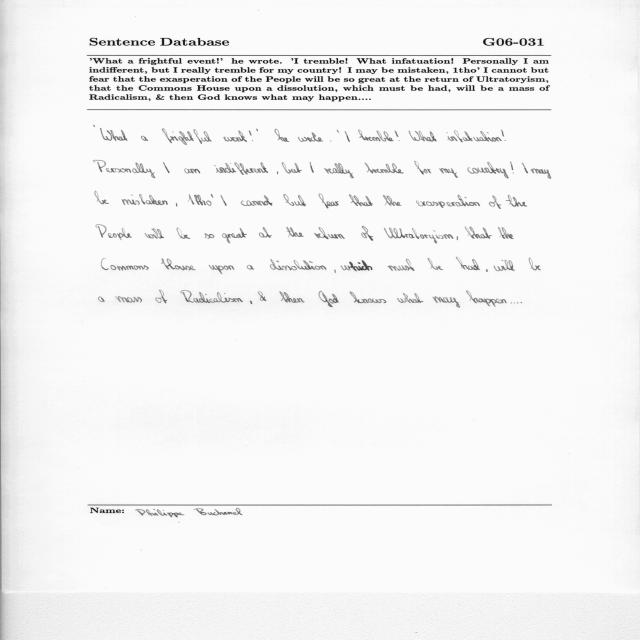word: (94, 161, 156, 179), (384, 228, 453, 244), (162, 128, 211, 145), (416, 195, 480, 208), (180, 290, 243, 303), (214, 162, 268, 175), (466, 290, 507, 307), (467, 162, 509, 178), (447, 130, 502, 142), (270, 259, 326, 270), (102, 258, 149, 271), (96, 225, 132, 240), (122, 194, 168, 205), (161, 258, 196, 271), (324, 163, 354, 178), (350, 292, 387, 304), (358, 130, 394, 142), (365, 163, 404, 174), (222, 228, 247, 243), (314, 227, 345, 239), (341, 261, 373, 272), (100, 128, 127, 141), (465, 226, 492, 239), (241, 195, 272, 206), (433, 296, 461, 308), (388, 259, 415, 271), (319, 291, 339, 307), (456, 258, 480, 271), (279, 291, 305, 303), (409, 131, 437, 142), (188, 194, 213, 206), (319, 194, 339, 209), (349, 195, 373, 207), (224, 130, 247, 142), (284, 194, 306, 206), (398, 293, 424, 303), (414, 161, 432, 175), (506, 195, 527, 207), (298, 132, 323, 142), (282, 162, 302, 174), (209, 265, 235, 274), (531, 168, 552, 179), (494, 260, 515, 271), (145, 228, 164, 239), (383, 195, 401, 206), (275, 129, 290, 142), (498, 227, 514, 239), (439, 168, 458, 178), (115, 296, 142, 303), (95, 192, 109, 205), (286, 227, 304, 237), (361, 226, 373, 241), (428, 258, 443, 270), (489, 195, 501, 209), (177, 227, 191, 239), (529, 258, 541, 271), (156, 290, 168, 303), (259, 227, 272, 238), (185, 169, 201, 174), (258, 291, 266, 301), (163, 162, 170, 173), (220, 195, 227, 206), (394, 130, 400, 141), (522, 163, 528, 173), (205, 233, 215, 239), (345, 131, 350, 142), (501, 130, 506, 141), (309, 162, 314, 173), (510, 162, 514, 174), (249, 131, 253, 142), (99, 296, 105, 302), (141, 136, 148, 141), (247, 265, 254, 269), (334, 269, 336, 273), (256, 129, 258, 132), (337, 130, 339, 133), (486, 269, 488, 272), (250, 301, 252, 304), (176, 203, 177, 207), (457, 237, 458, 241), (511, 303, 515, 304), (277, 172, 278, 175), (94, 125, 95, 127), (517, 302, 518, 304), (330, 141, 331, 142)
